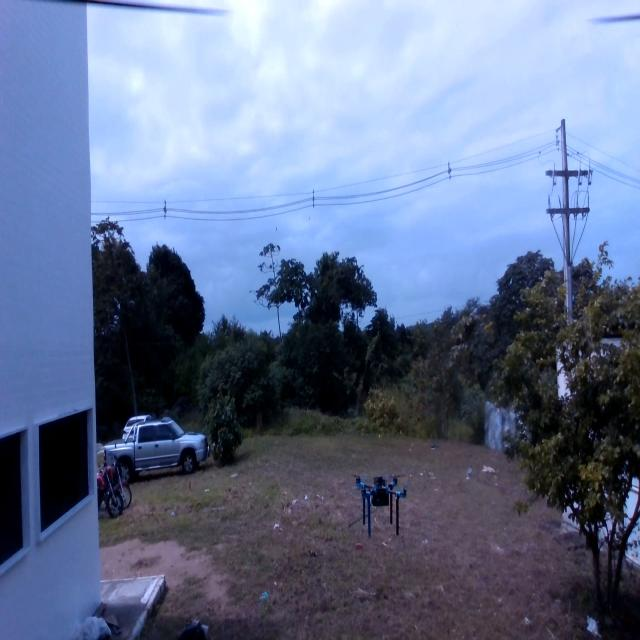-uav-: (350, 452, 412, 551)
